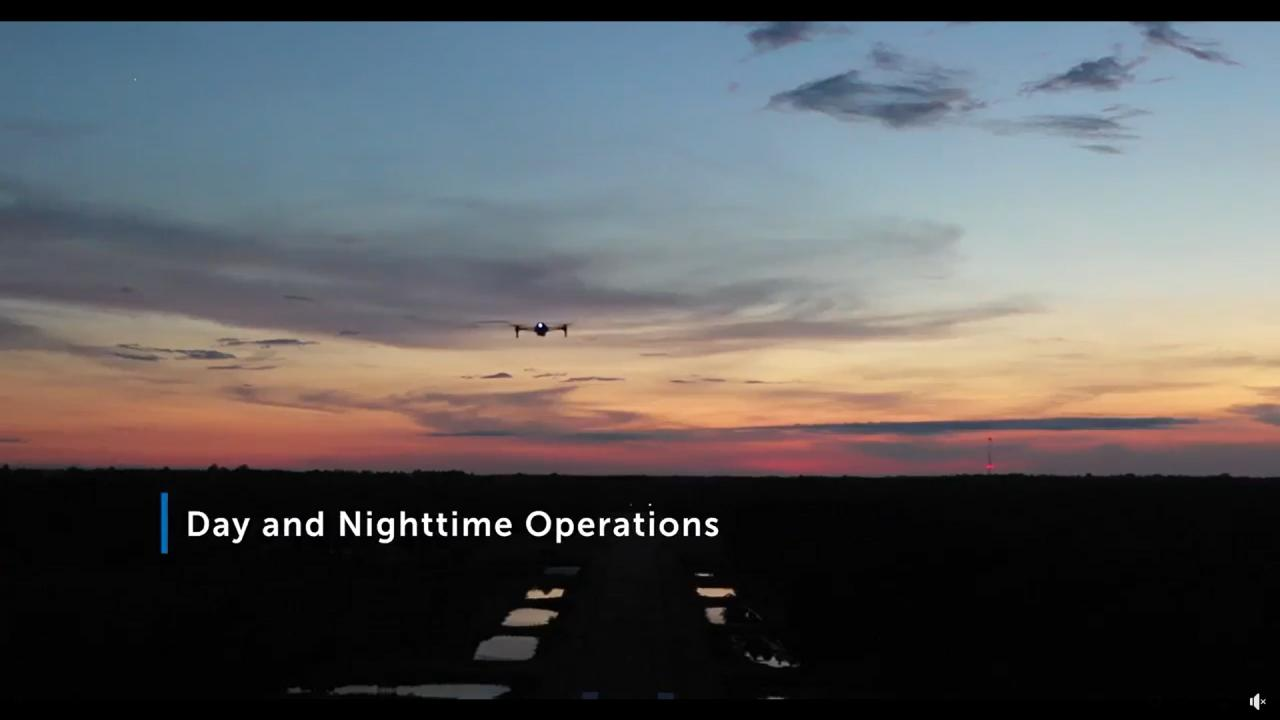Drone: (498, 312, 579, 349)
